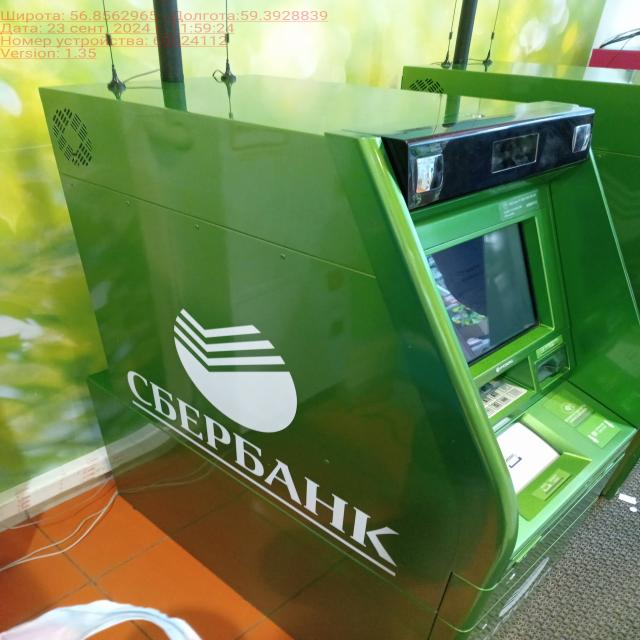bank: (29, 78, 640, 640)
